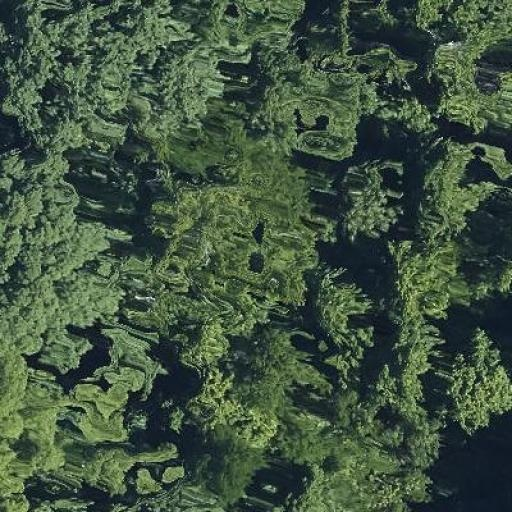tree-top: (0, 130, 133, 368), (154, 153, 309, 316), (0, 365, 177, 498), (90, 7, 226, 133), (260, 38, 370, 161), (5, 0, 94, 152), (383, 240, 457, 377), (425, 35, 512, 138), (305, 261, 376, 379), (440, 321, 511, 438), (413, 144, 484, 250), (198, 0, 315, 63), (282, 464, 423, 512), (325, 158, 402, 244), (185, 322, 246, 430), (244, 324, 306, 415), (403, 0, 512, 48), (206, 435, 268, 501)
